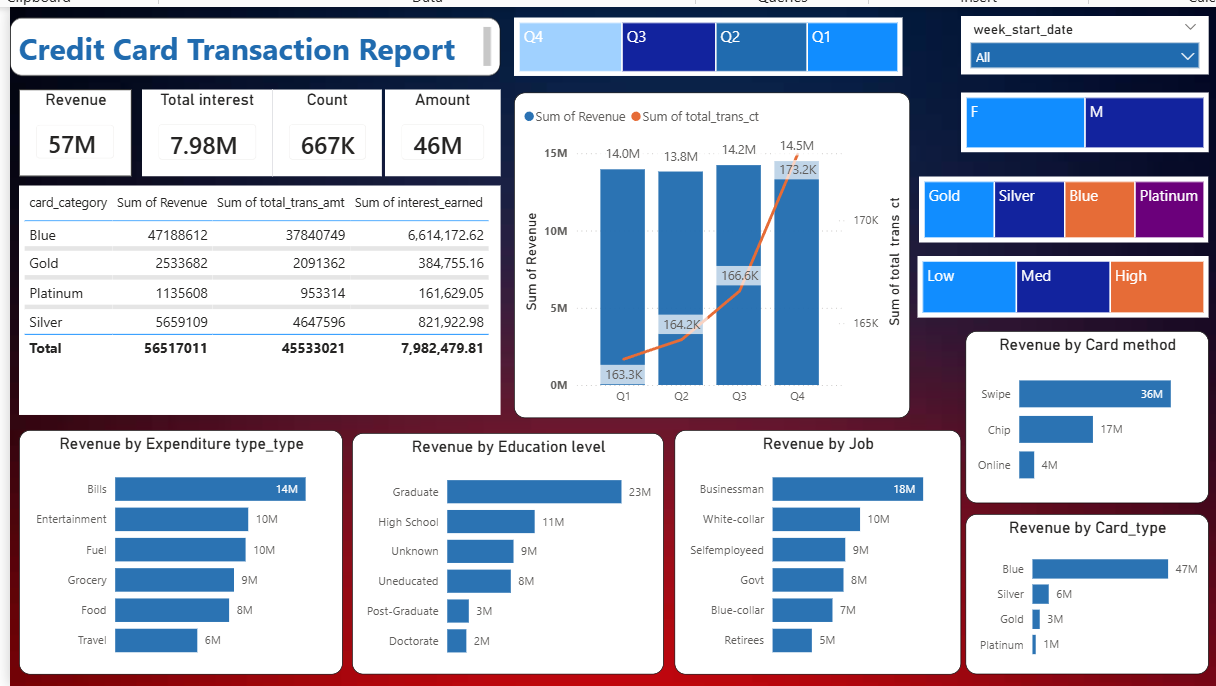

This screenshot's page, from the dashboard's own definition file:
{"tool":"powerbi","page":{"name":"CC Transaction","canvas":[1280,720],"ordinal":1},"visuals":[{"type":"textbox","box":[0,11.1,520.1,62],"z":0},{"type":"lineStackedColumnComboChart","fields":{"Category":["public cc_detail.qtr"],"Y":["Sum(public cc_detail.Revenue)"],"Y2":["Sum(public cc_detail.total_trans_ct)"]},"box":[534.4,90.7,419.9,345.2],"z":1000},{"type":"barChart","title":"Revenue by Expenditure type_type","fields":{"Category":["public cc_detail.exp_type"],"Y":["Sum(public cc_detail.Revenue)"]},"box":[9.5,448.6,343.6,259.3],"z":2000},{"type":"barChart","title":"Revenue by Education level","fields":{"Y":["Sum(public cc_detail.Revenue)"],"Category":["public cust_detail.education_level"]},"box":[362.7,451.7,330.8,256.1],"z":3000},{"type":"barChart","title":"Revenue by Job","fields":{"Y":["Sum(public cc_detail.Revenue)"],"Category":["public cust_detail.customer_job"]},"box":[704.6,448.6,303.8,259.3],"z":4000},{"type":"barChart","title":"Revenue by Card_type","fields":{"Y":["Sum(public cc_detail.Revenue)"],"Category":["public cc_detail.card_category"]},"box":[1013.2,537.6,257.7,170.2],"z":5000},{"type":"barChart","title":"Revenue by Card method","fields":{"Y":["Sum(public cc_detail.Revenue)"],"Category":["public cc_detail.use_chip"]},"box":[1013.2,343.6,257.7,182.9],"z":6000},{"type":"tableEx","fields":{"Values":["public cc_detail.card_category","Sum(public cc_detail.Revenue)","Sum(public cc_detail.total_trans_amt)","Sum(public cc_detail.interest_earned)"]},"box":[9.5,189.3,510.6,243.4],"z":7000},{"type":"cardVisual","title":"Revenue","fields":{"Data":["Sum(public cc_detail.Revenue)"]},"box":[9.5,87.5,119.3,92.3],"z":8000},{"type":"cardVisual","title":"Amount","fields":{"Data":["Sum(public cc_detail.total_trans_amt)"]},"box":[397.7,87.5,122.5,92.3],"z":9000},{"type":"cardVisual","title":"Total interest","fields":{"Data":["Sum(public cc_detail.interest_earned)"]},"box":[140,87.5,138.4,92.3],"z":10000},{"type":"cardVisual","title":"Count","fields":{"Data":["Sum(public cc_detail.total_trans_ct)"]},"box":[278.4,87.5,116.1,92.3],"z":11000},{"type":"slicer","fields":{"Values":["public cc_detail.week_start_date"]},"box":[1008.4,9.5,262.5,62],"z":12000},{"type":"treemap","fields":{"Group":["public cc_detail.qtr"],"Values":["Avg(public cc_detail.client_num)"]},"box":[534.4,11.1,412,62],"z":13000},{"type":"treemap","fields":{"Values":["Avg(public cc_detail.client_num)"],"Group":["public cust_detail.gender"]},"box":[1008.4,90.7,262.5,63.6],"z":14000},{"type":"treemap","fields":{"Values":["Avg(public cc_detail.client_num)"],"Group":["public cc_detail.card_category"]},"box":[963.9,179.7,307,70],"z":15000},{"type":"treemap","fields":{"Values":["Avg(public cc_detail.client_num)"],"Group":["public cust_detail.IncomeGroup"]},"box":[962.3,264,308.6,65.2],"z":16000}]}

Visuals, with their boxes in screenshot pixels (x1, y1, x2, y2):
textbox: {"x1": 13, "y1": 17, "x2": 500, "y2": 75}
lineStackedColumnComboChart - public cc_detail.qtr x Sum(public cc_detail.Revenue): {"x1": 513, "y1": 91, "x2": 907, "y2": 415}
"Revenue by Expenditure type_type" barChart: {"x1": 22, "y1": 427, "x2": 343, "y2": 670}
"Revenue by Education level" barChart: {"x1": 352, "y1": 430, "x2": 662, "y2": 669}
"Revenue by Job" barChart: {"x1": 673, "y1": 427, "x2": 957, "y2": 670}
"Revenue by Card_type" barChart: {"x1": 962, "y1": 510, "x2": 1203, "y2": 669}
"Revenue by Card method" barChart: {"x1": 962, "y1": 328, "x2": 1203, "y2": 500}
tableEx - public cc_detail.card_category x Sum(public cc_detail.Revenue): {"x1": 22, "y1": 184, "x2": 500, "y2": 412}
"Revenue" cardVisual: {"x1": 22, "y1": 88, "x2": 133, "y2": 175}
"Amount" cardVisual: {"x1": 385, "y1": 88, "x2": 500, "y2": 175}
"Total interest" cardVisual: {"x1": 144, "y1": 88, "x2": 273, "y2": 175}
"Count" cardVisual: {"x1": 273, "y1": 88, "x2": 382, "y2": 175}
slicer - public cc_detail.week_start_date: {"x1": 957, "y1": 15, "x2": 1203, "y2": 73}
treemap - public cc_detail.qtr x Avg(public cc_detail.client_num): {"x1": 513, "y1": 17, "x2": 899, "y2": 75}
treemap - Avg(public cc_detail.client_num) x public cust_detail.gender: {"x1": 957, "y1": 91, "x2": 1203, "y2": 151}
treemap - Avg(public cc_detail.client_num) x public cc_detail.card_category: {"x1": 916, "y1": 175, "x2": 1203, "y2": 240}
treemap - Avg(public cc_detail.client_num) x public cust_detail.IncomeGroup: {"x1": 914, "y1": 254, "x2": 1203, "y2": 315}
